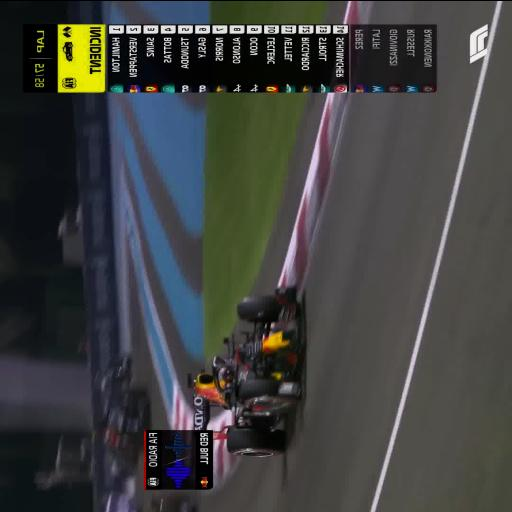f1_car: (188, 285, 302, 455)
